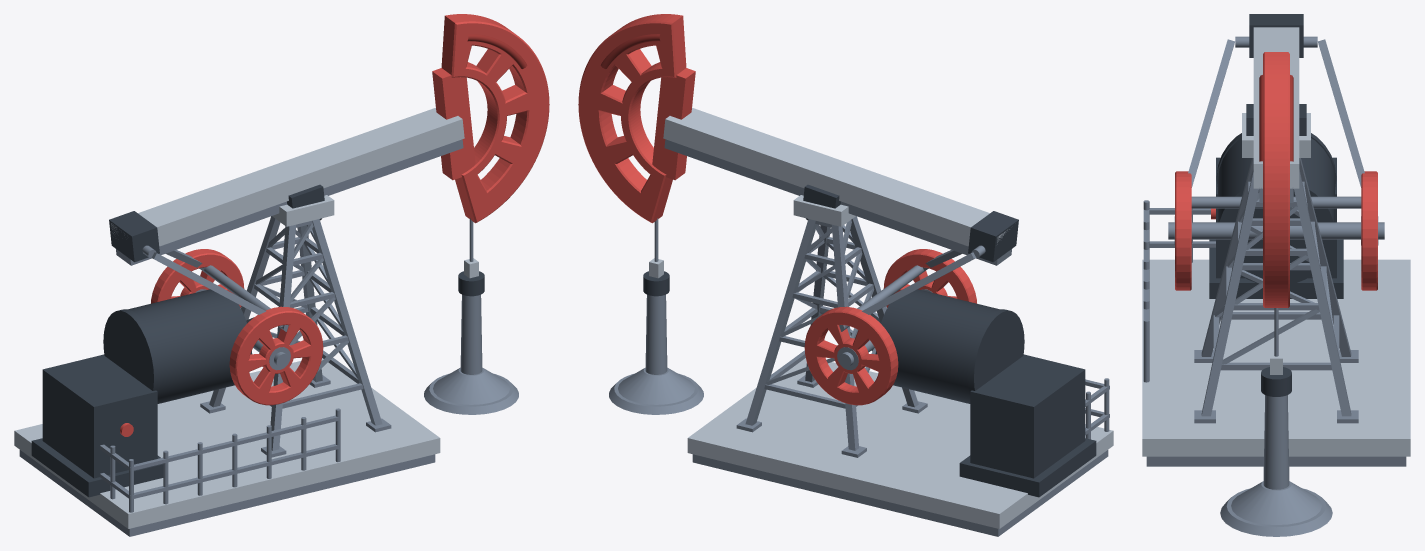
Rendered from oil-field.glb.
3 renders of one model, left to right at view 1: azimuth 30°, elevation 25°; view 2: azimuth 150°, elevation 25°; view 3: azimuth 270°, elevation 25°, orthographic. The views are drawn at different scales.
Parts seen in each view (by area): view 1: platform_deck, walking_beam, horsehead_plate, engine_housing, reducer_drum, counterweight_0, platform_skirt, drum_cap, walking_beam_web, horsehead_chord, rail_bar (×2), engine_base (+12 smaller); view 2: platform_deck, walking_beam, horsehead_plate, engine_housing, reducer_drum, counterweight_1, platform_skirt, drum_cap, walking_beam_web, engine_base, horsehead_chord, post_leg_1 (+11 smaller); view 3: platform_deck, horsehead_plate, reducer_drum, walking_beam, well_base_cone, platform_skirt, post_leg_0, post_leg_1, well_casing, counterweight_0, counterweight_1, crank_shaft (+22 smaller).
Part boxes in pixels (bbox=[...]): platform_deck: bbox=[14, 358, 440, 528]; walking_beam: bbox=[111, 107, 464, 246]; horsehead_plate: bbox=[441, 14, 549, 223]; engine_housing: bbox=[42, 354, 157, 478]; reducer_drum: bbox=[128, 289, 252, 403]; counterweight_0: bbox=[229, 306, 323, 405]; platform_skirt: bbox=[19, 450, 435, 536]; drum_cap: bbox=[103, 309, 160, 394]; walking_beam_web: bbox=[116, 139, 463, 265]; horsehead_chord: bbox=[432, 68, 475, 180]; rail_bar (×2): bbox=[133, 415, 338, 498]; engine_base: bbox=[31, 438, 163, 497]; platform_deck: bbox=[687, 358, 1113, 528]; walking_beam: bbox=[663, 107, 1009, 246]; horsehead_plate: bbox=[578, 14, 686, 223]; engine_housing: bbox=[970, 354, 1085, 478]; reducer_drum: bbox=[875, 289, 999, 403]; counterweight_1: bbox=[804, 306, 898, 405]; platform_skirt: bbox=[692, 450, 1108, 536]; drum_cap: bbox=[967, 309, 1024, 394]; walking_beam_web: bbox=[664, 139, 1011, 265]; engine_base: bbox=[959, 438, 1096, 497]; horsehead_chord: bbox=[652, 68, 695, 180]; post_leg_1: bbox=[745, 219, 817, 425]; platform_deck: bbox=[1142, 259, 1410, 456]; horsehead_plate: bbox=[1263, 52, 1289, 307]; reducer_drum: bbox=[1218, 138, 1334, 284]; walking_beam: bbox=[1253, 27, 1299, 188]; well_base_cone: bbox=[1231, 481, 1321, 524]; platform_skirt: bbox=[1146, 456, 1406, 466]; post_leg_0: bbox=[1201, 169, 1258, 416]; post_leg_1: bbox=[1294, 169, 1351, 416]; well_casing: bbox=[1263, 395, 1289, 489]; counterweight_0: bbox=[1175, 171, 1191, 290]; counterweight_1: bbox=[1361, 171, 1377, 290]; crank_shaft: bbox=[1168, 222, 1384, 239].
Size of the model in its own units: 1.52 by 1.16 by 0.62.
